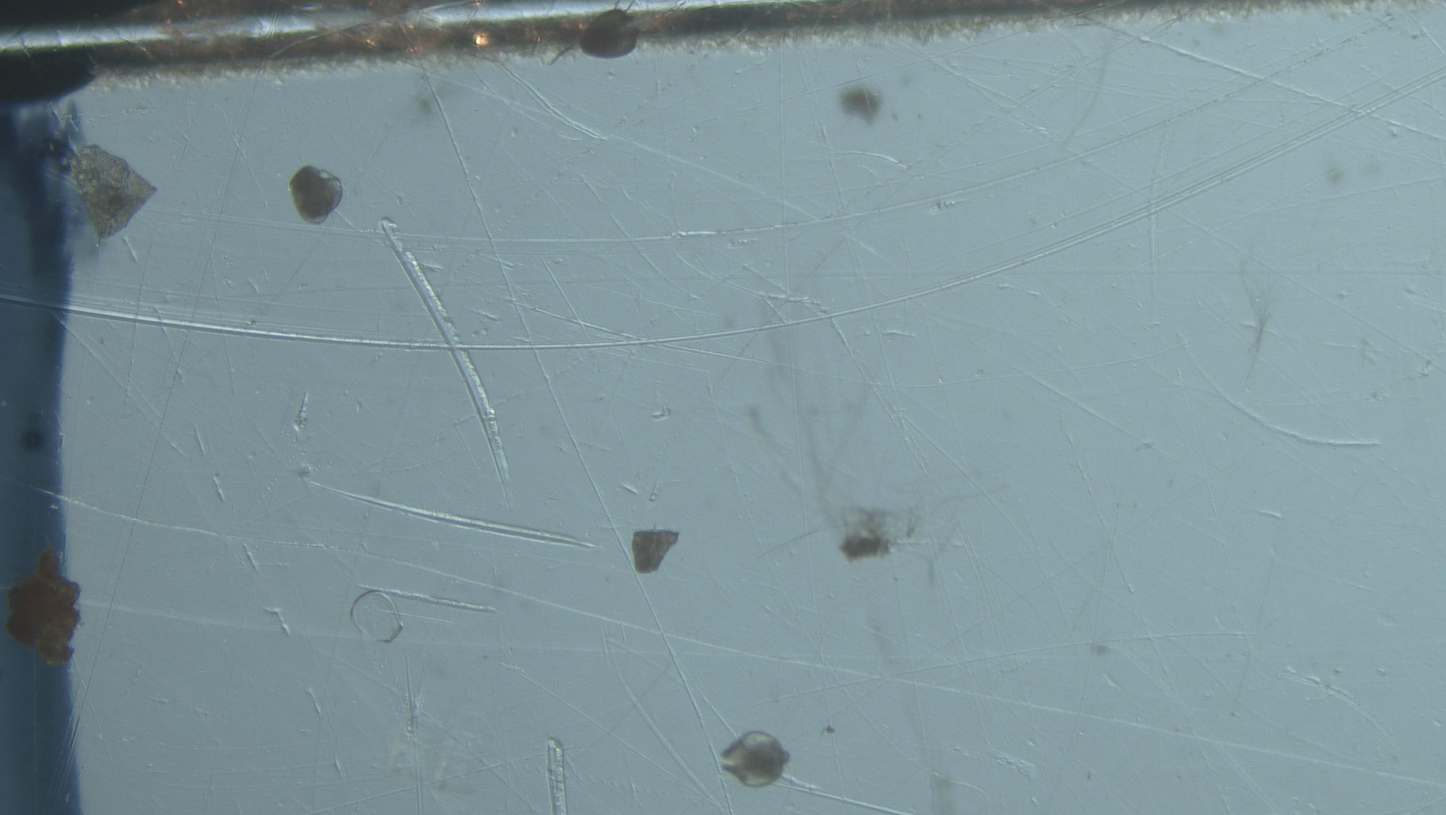dead: (350, 592, 404, 644)
live: (719, 731, 790, 788), (288, 166, 343, 224), (579, 9, 639, 59)
